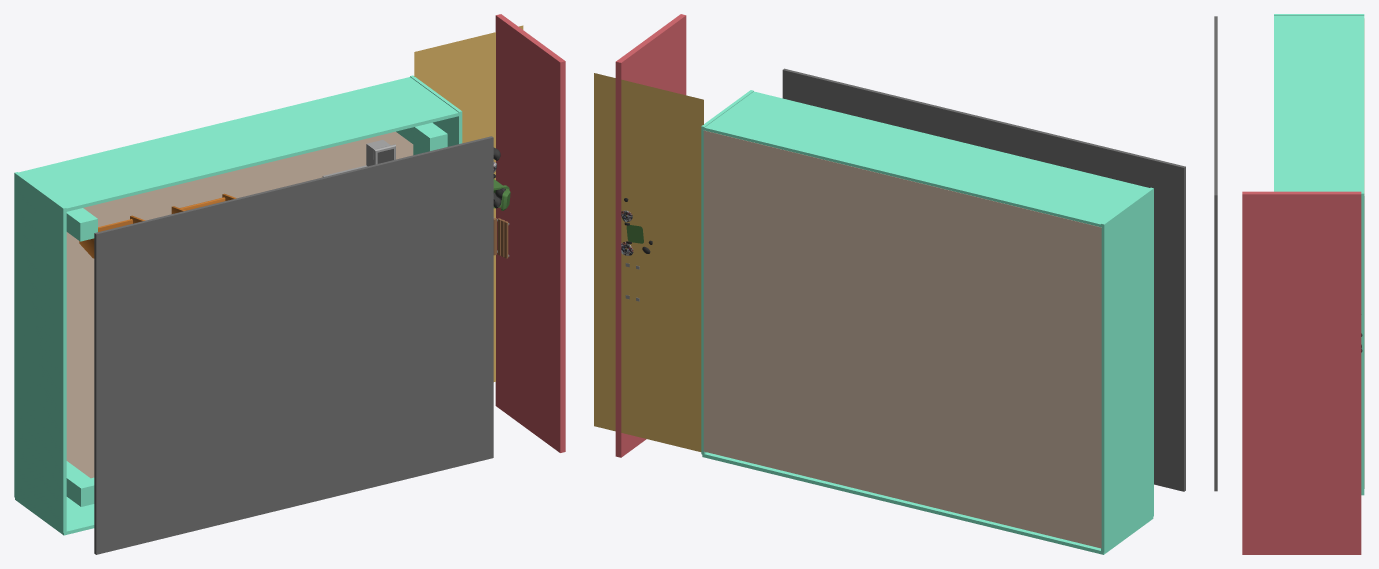
Rendered from run_for_baby_final.fbx.
The picture shows the model from 3 angles, left to right: view 1: azimuth 30°, elevation 25°; view 2: azimuth 150°, elevation 25°; view 3: azimuth 270°, elevation 25°; orthographic projection. The views are drawn at different scales.
Visible parts, largest first — view 1: Cube.305, Cube.292, Cube.228, Cube.231, Cube.065, Plane.031, Cube.066, Cube.276, Cube.271, Cube.230, Cube.270; view 2: Cube.065, Plane.031, Cube.305, Cube.228, Cube.231, Cube.292, Cube.066, Cube.230; view 3: Cube.292, Cube.228, Cube.305, Cube.230, Cube.065.
Part boxes in pixels (<box>): Cube.305: <box>94,136,493,554</box>; Cube.292: <box>495,14,565,452</box>; Cube.228: <box>18,77,458,212</box>; Cube.231: <box>14,172,66,532</box>; Cube.065: <box>66,131,413,478</box>; Plane.031: <box>414,25,523,381</box>; Cube.066: <box>15,477,94,535</box>; Cube.276: <box>396,122,447,152</box>; Cube.271: <box>66,461,94,506</box>; Cube.230: <box>410,75,462,155</box>; Cube.270: <box>66,208,97,241</box>; Cube.065: <box>703,130,1101,548</box>; Plane.031: <box>594,73,703,451</box>; Cube.305: <box>782,68,1185,491</box>; Cube.228: <box>702,91,1149,228</box>; Cube.231: <box>1101,187,1153,552</box>; Cube.292: <box>615,14,686,457</box>; Cube.066: <box>702,452,1153,554</box>; Cube.230: <box>701,90,753,454</box>; Cube.292: <box>1242,191,1361,554</box>; Cube.228: <box>1274,16,1364,192</box>; Cube.305: <box>1214,16,1217,491</box>; Cube.230: <box>1361,192,1364,493</box>; Cube.065: <box>1364,18,1364,488</box>.
Bounding box in the file's own units: 6342 × 4671 × 1767.
Materials: 40 (1 with a texture image).
